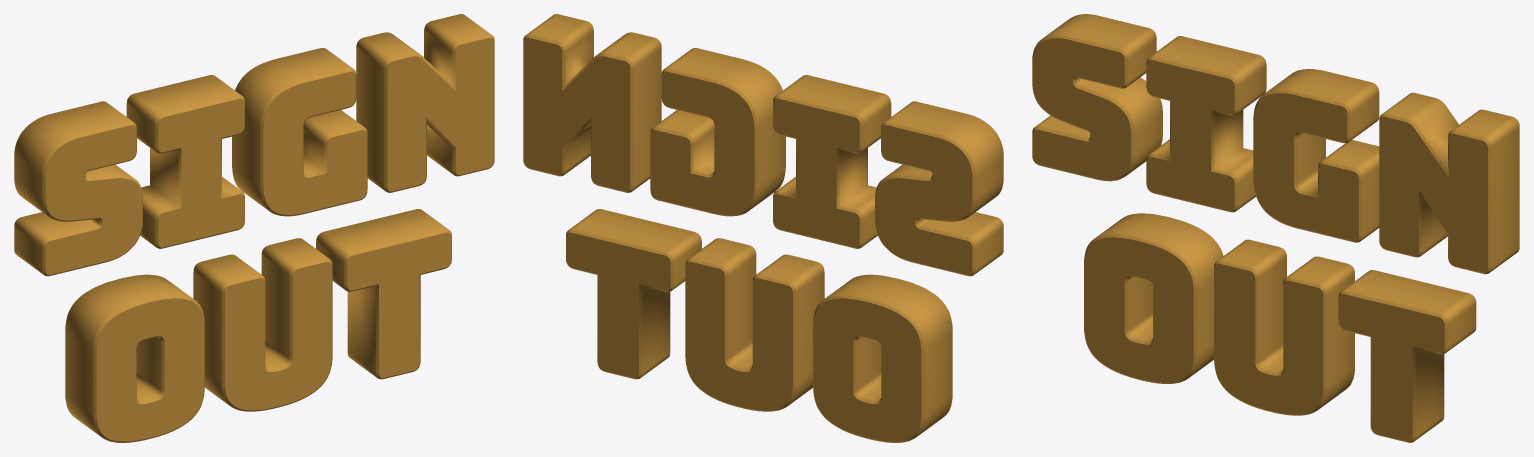
Rendered from sign-out-bungee_draco.glb.
3 renders of one model, left to right at view 1: azimuth 30°, elevation 25°; view 2: azimuth 150°, elevation 25°; view 3: azimuth 330°, elevation 25°, orthographic.
Parts seen in each view (by area): view 1: Text; view 2: Text; view 3: Text.
Boxes of the visible parts, x1,y1,x2,y2 form: Text: [14, 14, 494, 442]; Text: [523, 14, 1003, 442]; Text: [1032, 14, 1519, 442].
Size of the model in its own units: 2.05 by 1.4 by 0.2399.
